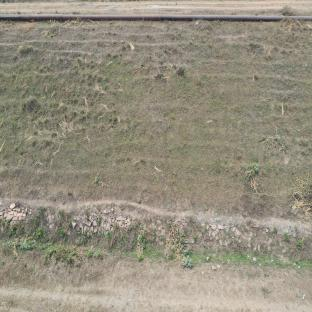rock_toe: (2, 201, 312, 270)
